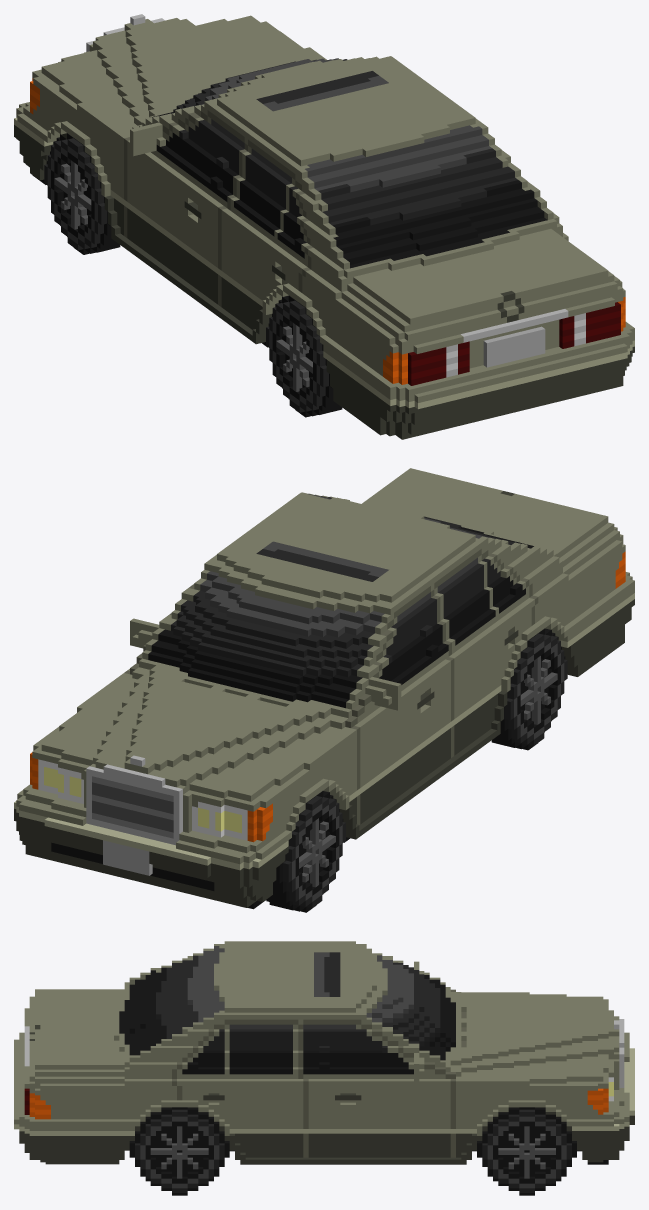
The picture shows the model from 3 angles, top to bottom: view 1: azimuth 30°, elevation 25°; view 2: azimuth 150°, elevation 25°; view 3: azimuth 270°, elevation 25°; orthographic projection. The views are drawn at different scales.
Visible parts, largest first — view 1: VOX; view 2: VOX; view 3: VOX.
Part boxes in pixels (x1,y1,x2,y2): VOX: (14, 14, 634, 439); VOX: (14, 468, 634, 912); VOX: (14, 941, 634, 1195).
Size of the model in its own units: 0.046 by 0.037 by 0.118.
